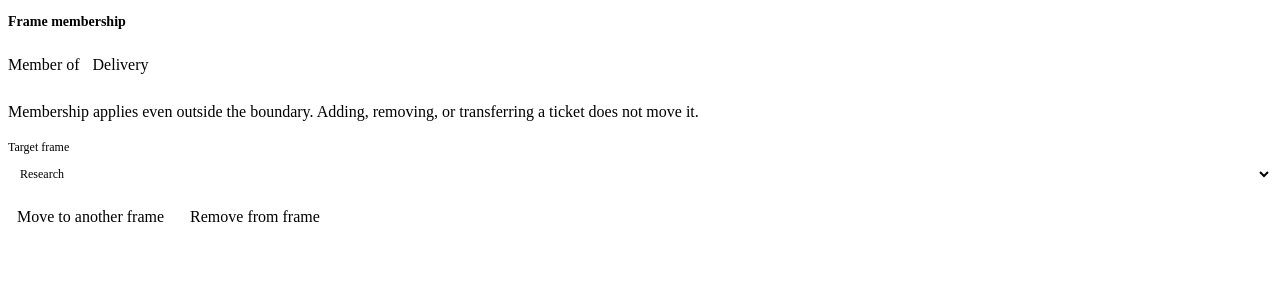
Test: locks membership writes immediately and restores the target after a failed save
Click the button "Move to another frame". click: (91, 217)
box: [8,201,173,233]
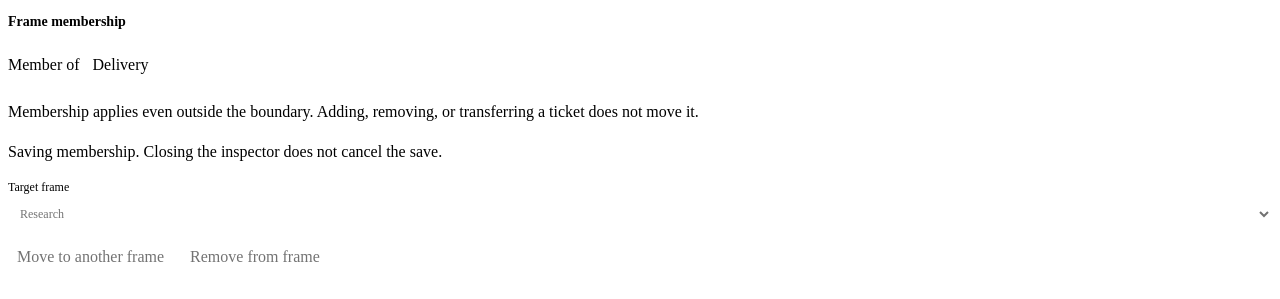
Expected: the dropdown labelled "Target frame" is disabled, [8,199,1272,229]
Expected: the button "Remove from frame" is disabled, [181,241,329,273]
Click the button "Move to another frame". click: (91, 257)
box: [8,241,173,273]
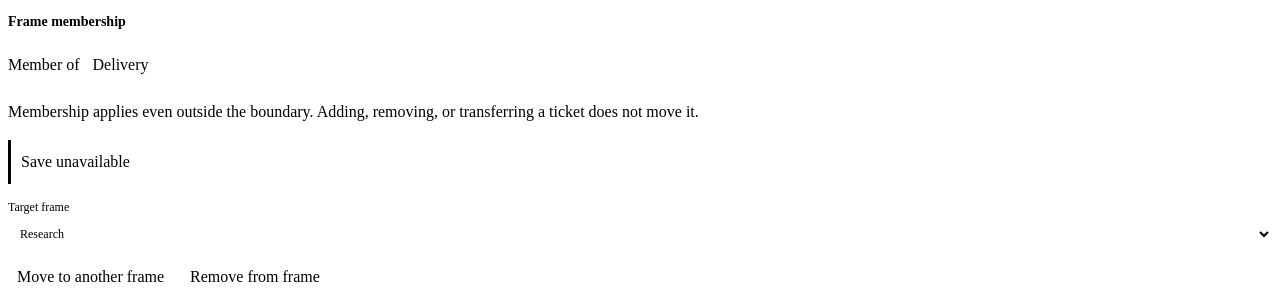
Expected: the dropdown labelled "Target frame" shows "Research", [8,219,1272,249]
Expected: the dropdown labelled "Target frame" is enabled, [8,219,1272,249]
Expected: the message "Save unavailable" is shown, [8,140,1272,184]
